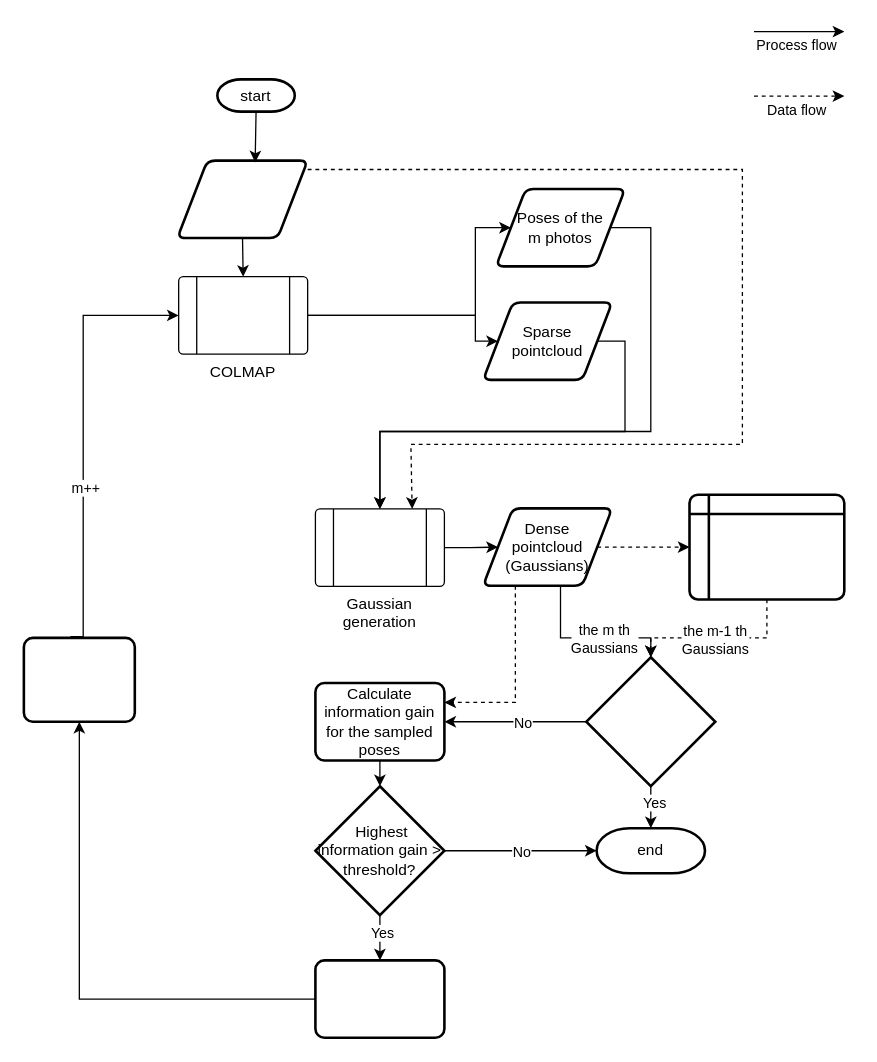
The diagram is 877 pixels wide and 1062 high, and some of its shapes have lost their labels. The box of each missing label's shape, as (x1, y1, x2, y2) in pixels:
difference < threshold?: (584, 655, 716, 787)
Select pose with highest information gain: (313, 958, 445, 1038)
Stored dense pointcloud (Gaussians): (688, 493, 845, 600)
Take the m+1 the photo from the next-best-view pose: (22, 636, 135, 722)
the first m photos taken from camera: (175, 159, 308, 239)
